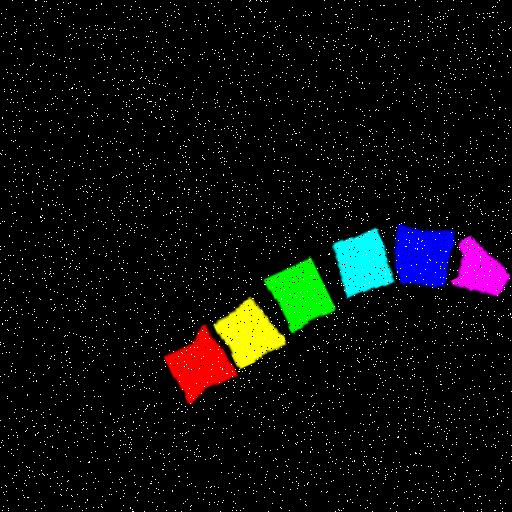L1: (158, 325, 232, 404)
L2: (209, 299, 280, 369)
L3: (260, 260, 330, 334)
L4: (329, 234, 389, 299)
L5: (395, 227, 452, 291)
S1: (446, 239, 505, 299)
